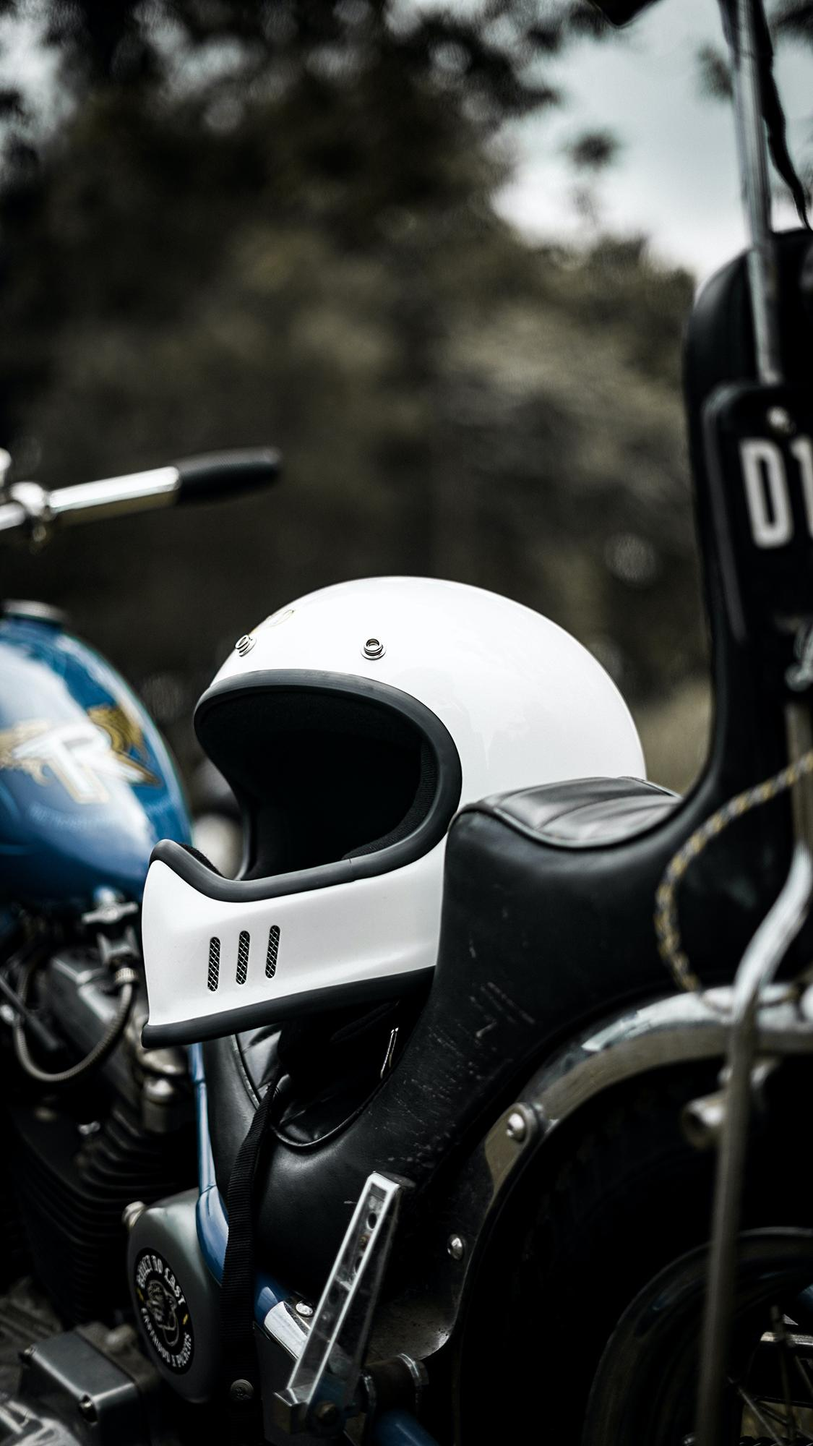helmet: (139, 572, 655, 1055)
